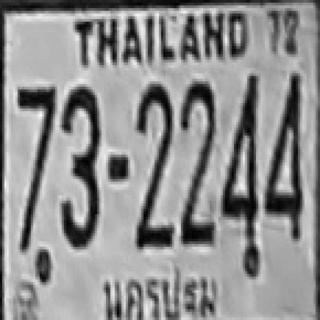N02: (134, 132, 171, 246)
N03: (60, 90, 99, 247), (60, 109, 99, 247)
N04: (263, 70, 300, 233), (220, 72, 257, 224)
N07: (15, 84, 55, 179)
P28: (94, 264, 224, 320)
